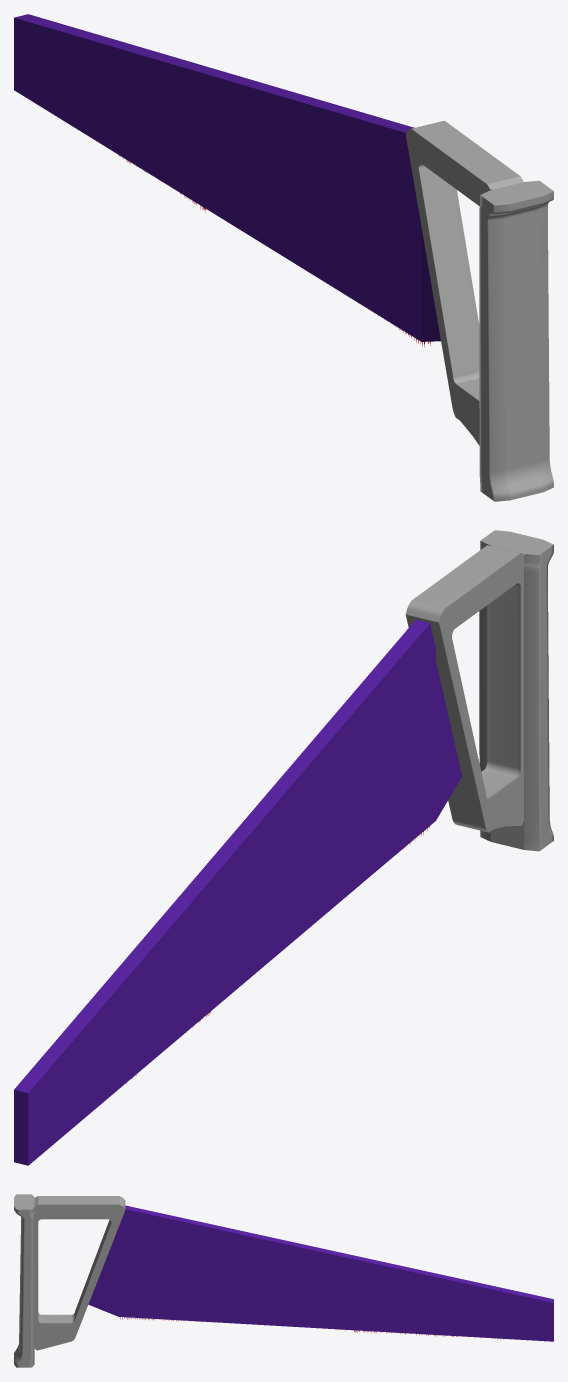
Rendered from saw.fbx.
3 renders of one model, top to bottom at view 1: azimuth 30°, elevation 25°; view 2: azimuth 150°, elevation 25°; view 3: azimuth 270°, elevation 25°, orthographic. The views are drawn at different scales.
Visible parts, largest first — view 1: blade, handle; view 2: blade, handle; view 3: blade, handle.
Part boxes in pixels (box(x1,y1,x2,y2)): blade: box(14, 14, 440, 341); handle: box(405, 121, 553, 501); blade: box(14, 620, 462, 1165); handle: box(405, 530, 553, 851); blade: box(88, 1205, 553, 1341); handle: box(14, 1194, 125, 1367).
Size of the model in its own units: 0.1776 by 0.8579 by 2.63.
